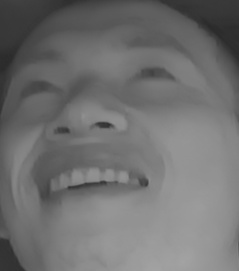eye: (129, 58, 181, 88), (14, 75, 61, 104)
mouth: (31, 149, 154, 218)
